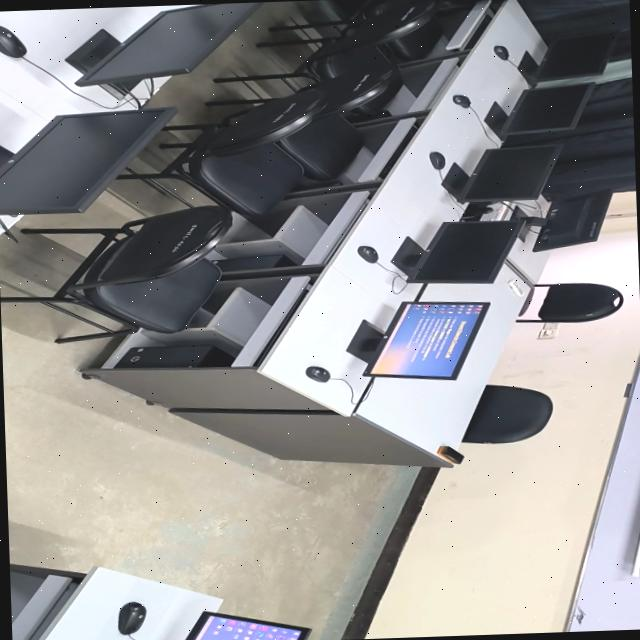Chair: (0, 205, 233, 345), (163, 89, 321, 211), (277, 70, 393, 178), (287, 0, 429, 84), (462, 384, 558, 449), (518, 279, 628, 327), (348, 0, 463, 21)
Monitor: (0, 105, 175, 219), (66, 2, 268, 84), (358, 302, 492, 379), (406, 218, 522, 285), (456, 146, 564, 203), (526, 186, 613, 253), (158, 606, 311, 640), (497, 82, 592, 134), (530, 36, 612, 83)
Mouse: (114, 598, 152, 636), (0, 21, 29, 60), (302, 363, 331, 384), (354, 244, 379, 266), (426, 150, 446, 173), (450, 93, 474, 110), (492, 46, 512, 62)
